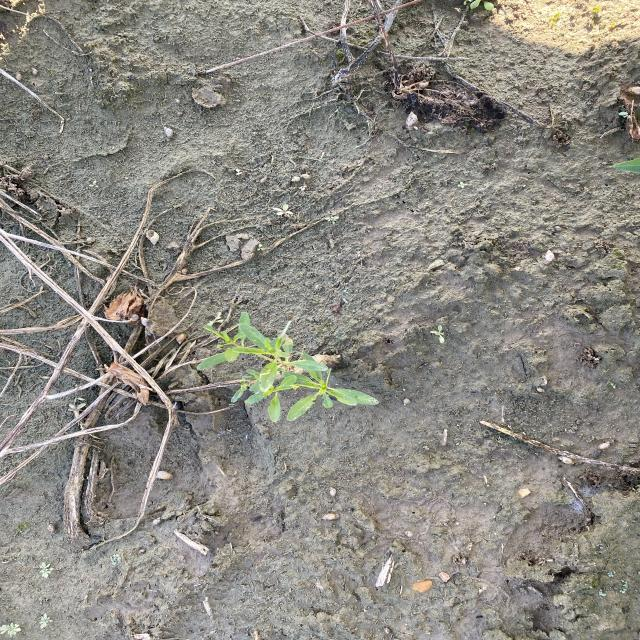Waterhemp: (193, 311, 382, 424)
